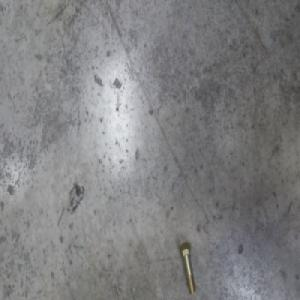Bolt: (178, 240, 196, 294)
